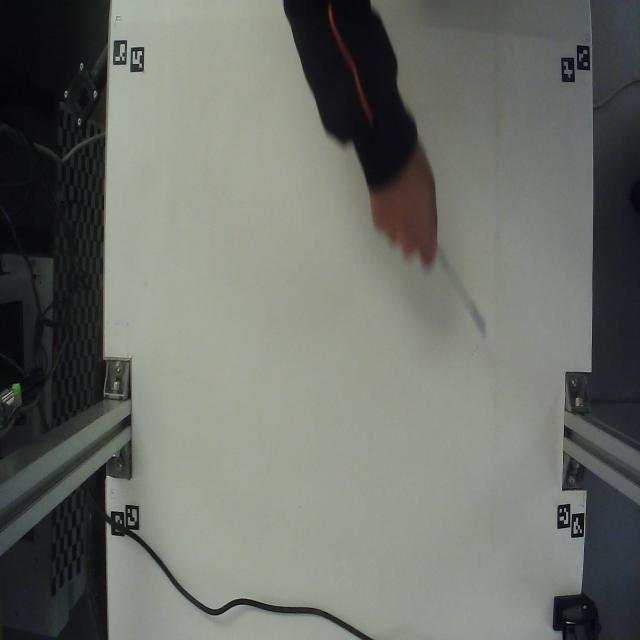NoPres: (412, 232, 496, 344)
